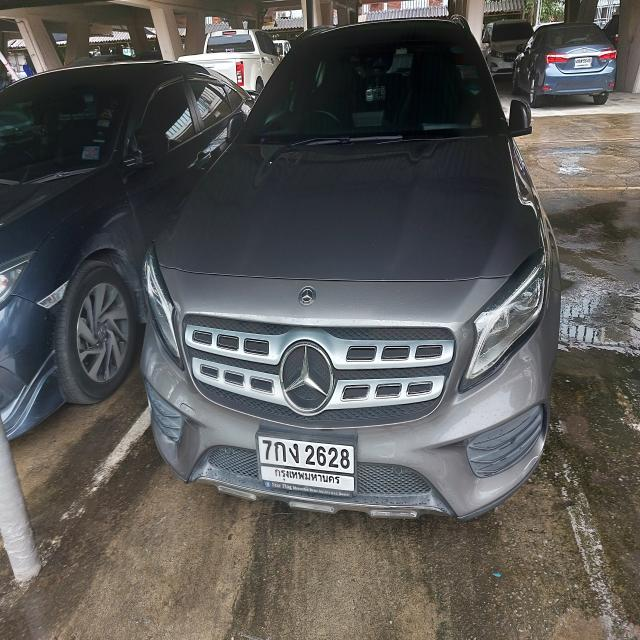license_plate: (253, 422, 359, 498), (572, 54, 594, 72)
